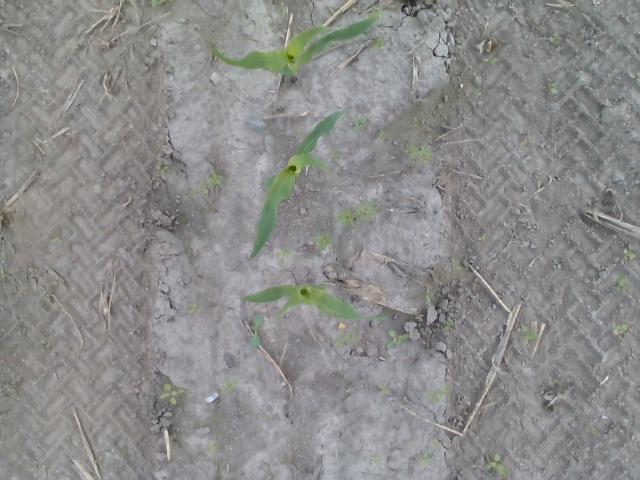Maize: (246, 109, 344, 262), (208, 15, 380, 82), (240, 284, 390, 323)
Weeds: (337, 200, 378, 224), (191, 168, 221, 199), (482, 452, 510, 480), (158, 382, 184, 408), (404, 140, 434, 161), (387, 327, 409, 350), (334, 331, 360, 350), (249, 315, 263, 348), (611, 270, 629, 294), (219, 375, 240, 395), (424, 388, 448, 404), (313, 230, 331, 250), (611, 321, 631, 337), (5, 380, 19, 402), (206, 438, 222, 455), (371, 31, 386, 49), (521, 325, 537, 341), (416, 451, 432, 467), (439, 318, 457, 330), (352, 113, 366, 128), (546, 80, 560, 94), (622, 246, 636, 260), (378, 384, 392, 396), (626, 70, 640, 82), (155, 160, 169, 172), (423, 286, 432, 304), (188, 302, 200, 314), (374, 129, 386, 141), (68, 38, 80, 50), (550, 31, 560, 45), (40, 336, 50, 350), (149, 0, 168, 7), (371, 454, 382, 466), (91, 454, 102, 466), (276, 248, 290, 257), (49, 238, 64, 246), (50, 9, 65, 17), (630, 296, 640, 308), (328, 150, 338, 161), (584, 422, 593, 434), (0, 257, 9, 268), (487, 55, 498, 64), (432, 439, 442, 448), (478, 235, 486, 242), (112, 0, 120, 6), (303, 14, 310, 20)
